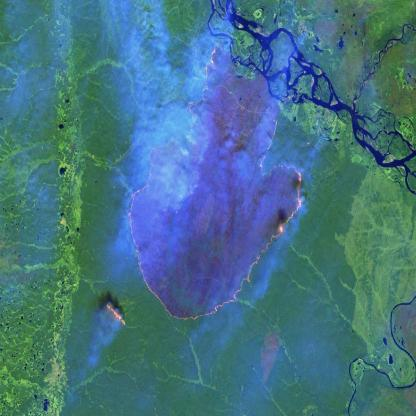fire: (95, 37, 304, 338)
